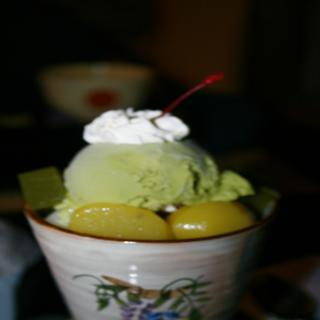Ice cream: (11, 82, 277, 307)
